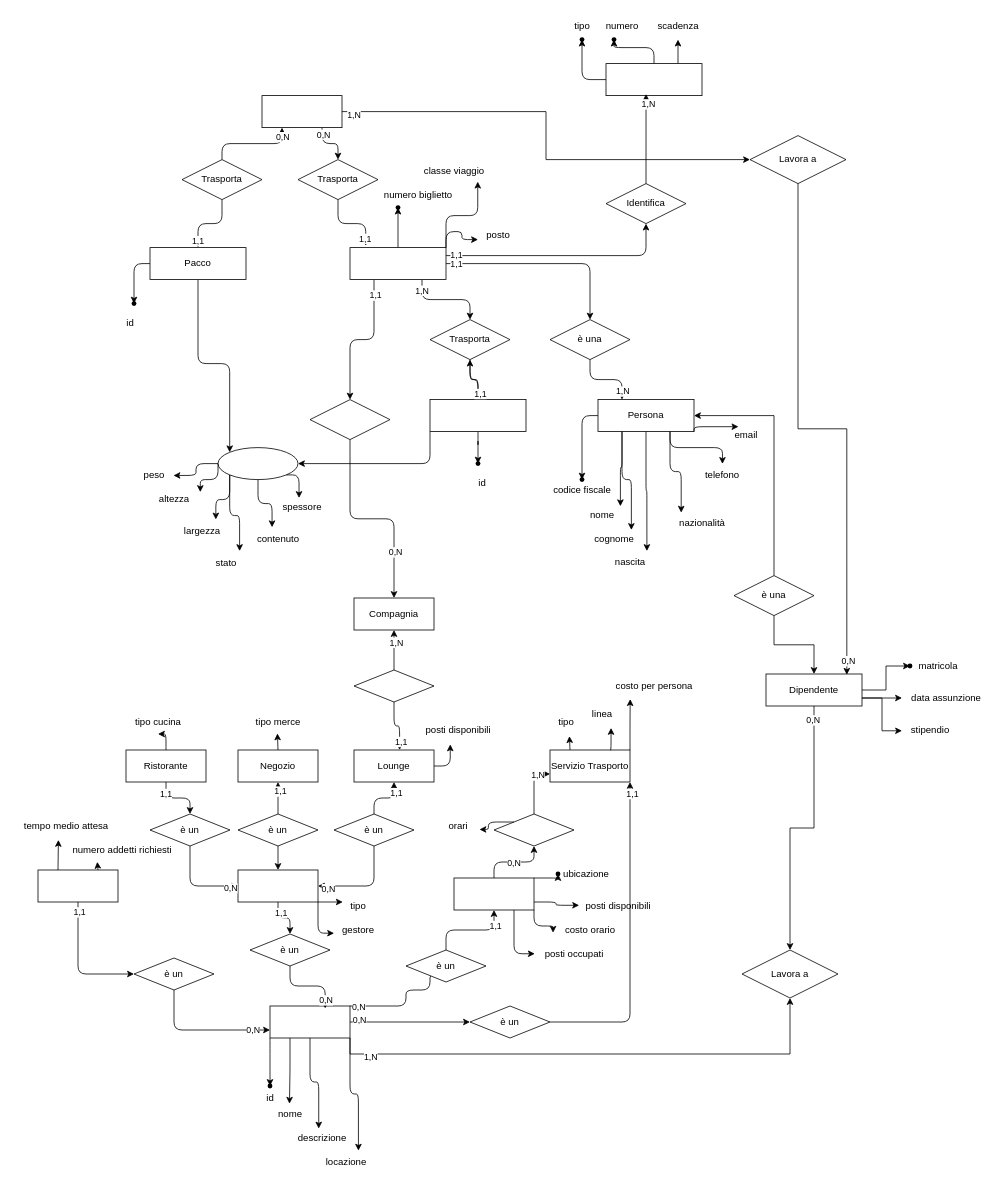
The diagram is 1003 pixels wide and 1187 high, and some of its shapes have lost their labels. The centre of each missing label's shape, as x and y in pixels:
"Bagaglio" goes at point (477, 415).
"Cliente" goes at point (349, 419).
"collega" goes at point (533, 829).
"Contenitore" goes at point (257, 463).
"Documento" goes at point (653, 79).
"offre" goes at point (393, 685).
"Parcheggio" goes at point (493, 893).
"Passeggero" goes at point (397, 263).
"Servizio" goes at point (309, 1021).
"Servizio Commerciale" goes at point (277, 885).
"Servizio Sicurezza" goes at point (77, 885).
"Volo" goes at point (301, 111).
